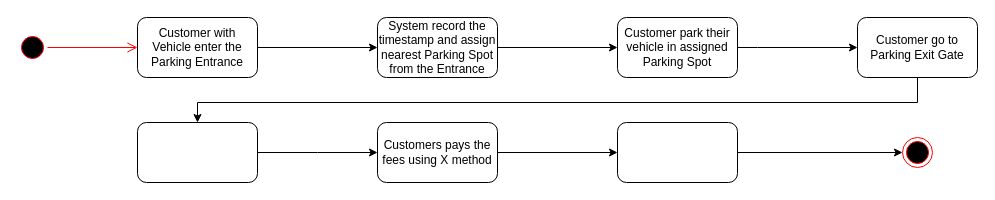
Some shapes in this 995 by 200 pixel diagram are drawn without their labels. Here are the shapes that lost their labels. From the top down, the centre of each, then its label:
At (x=197, y=152): "Systems calculate fees based on hourly basis".
At (x=677, y=152): "Exit Gate Opens, Customer can exit".
